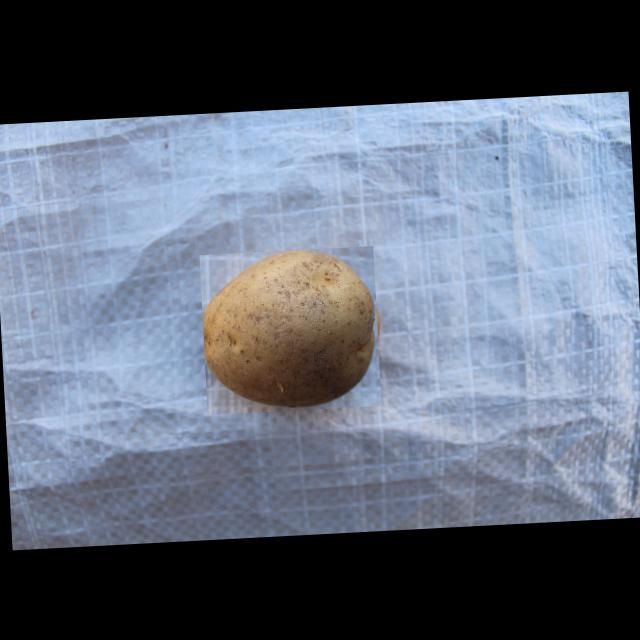Diseased-fungal potato: (198, 245, 380, 414)
